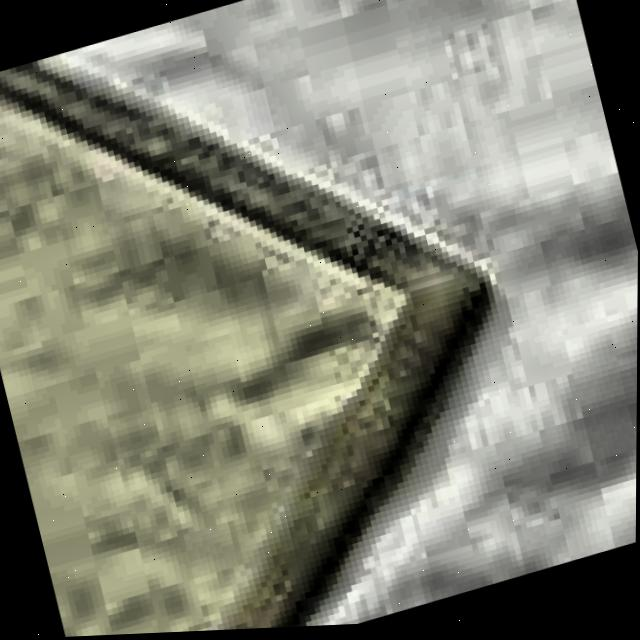paper: (0, 60, 497, 638)
